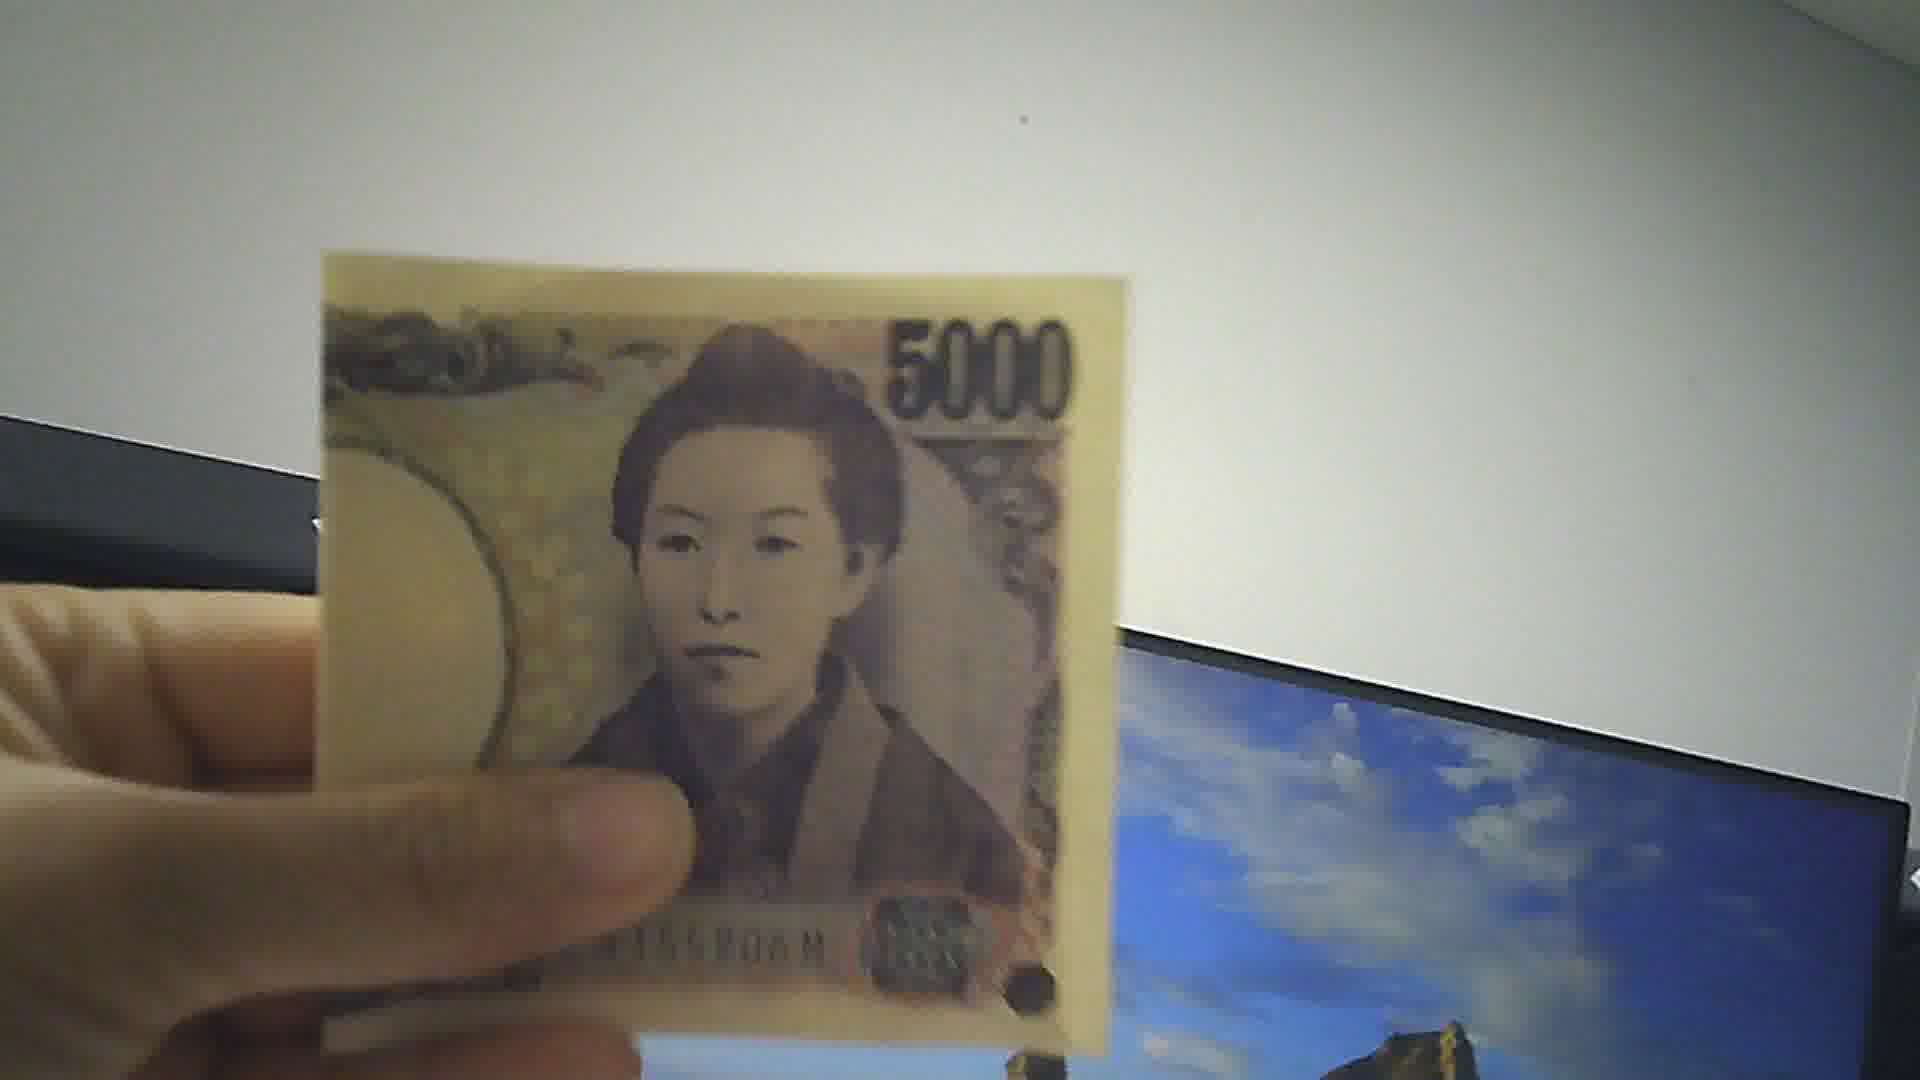5,000 Yen: (285, 232, 1114, 1042)
